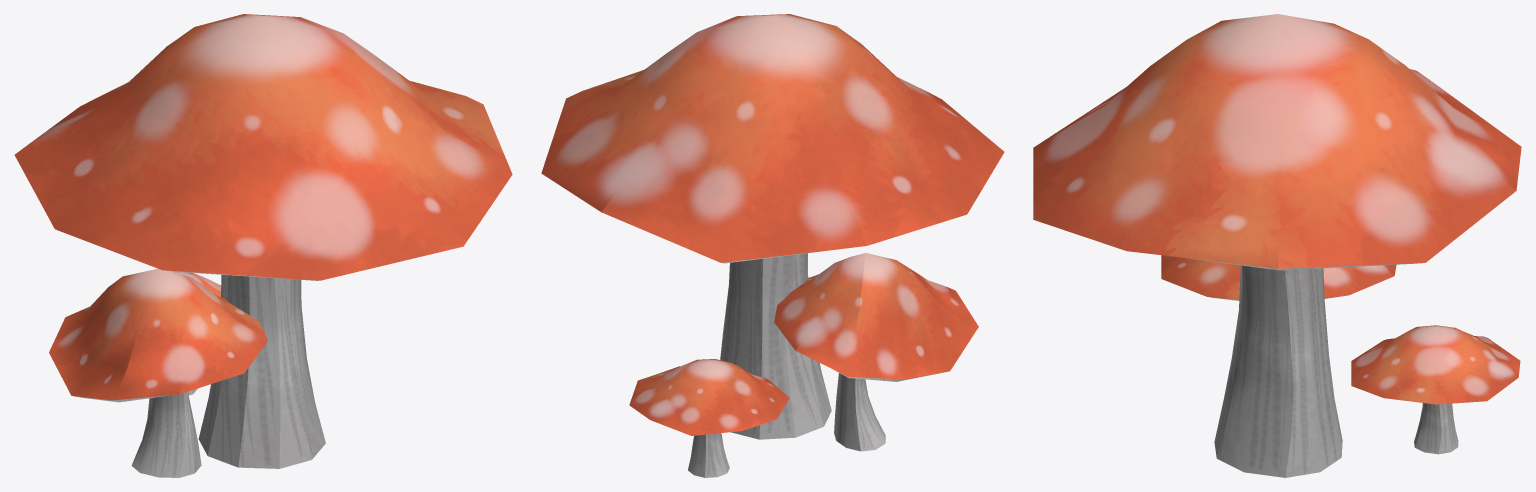
File: Mushrooms.fbx
3 views of the same model, side by side, from view 1: azimuth 30°, elevation 25°; view 2: azimuth 150°, elevation 25°; view 3: azimuth 270°, elevation 25° (orthographic). The views are drawn at different scales.
Visible parts, largest first — view 1: Mushrooms; view 2: Mushrooms; view 3: Mushrooms.
Boxes of the visible parts, x1,y1,x2,y2 form: Mushrooms: [14, 14, 512, 477]; Mushrooms: [541, 14, 1004, 477]; Mushrooms: [1033, 14, 1521, 477].
Size of the model in its own units: 1.34 by 1.29 by 1.28.
Materials: 2 (2 with a texture image).
